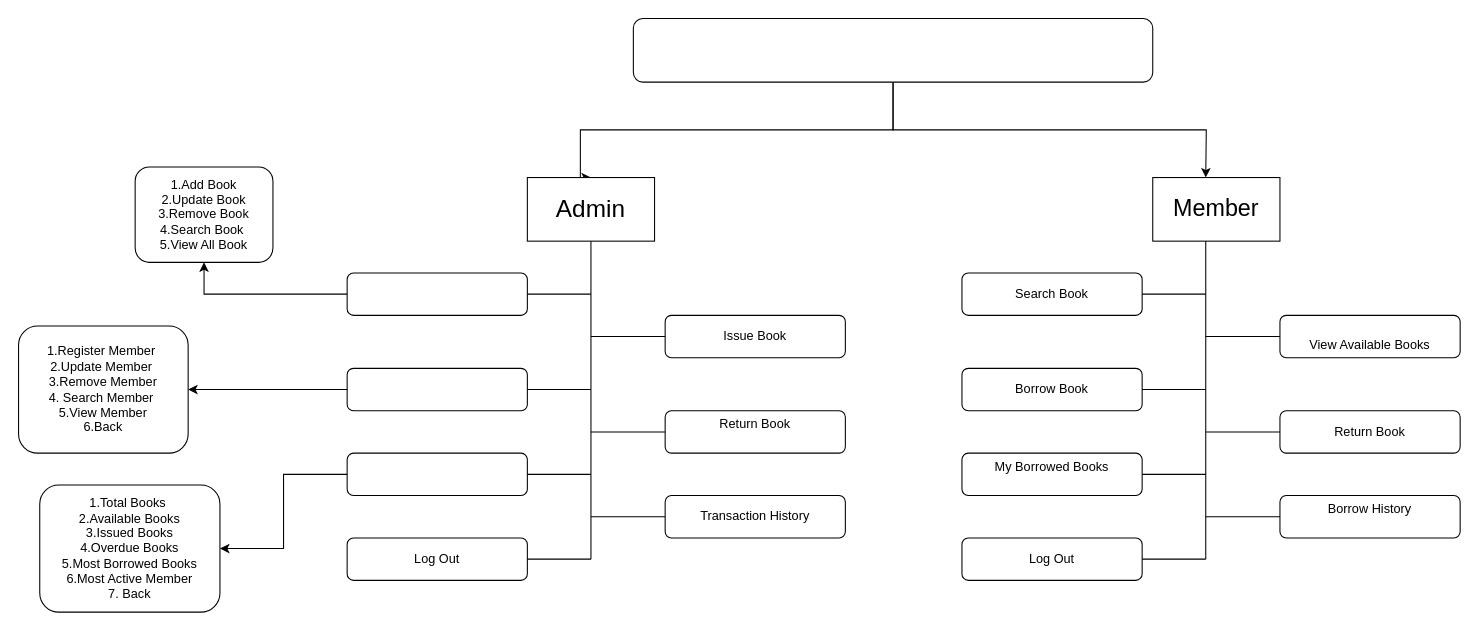
Some shapes in this 1479 by 631 pixel diagram are drawn without their labels. The shapes that lost their labels are listed below. From the top down, each one's centre as x and y in pixels, then its label:
At (892,49): "LIBRARY MANAGEMENT SYSTEM".
At (436,293): "Book Management".
At (436,389): "Member Management".
At (436,474): "Reports".
